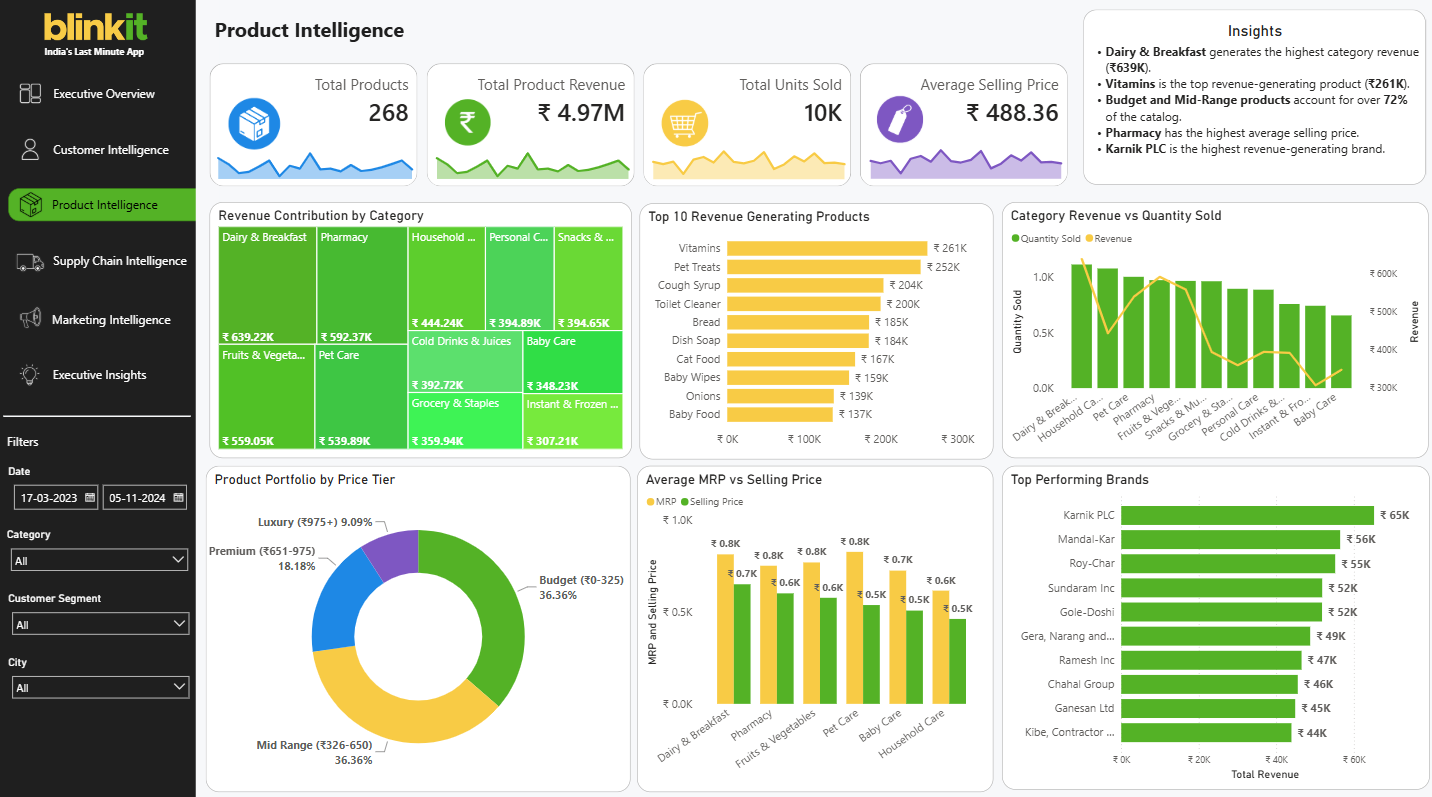

The page's visual inventory and layout, read from the dashboard file:
{"tool":"powerbi","page":{"name":"Duplicate of Dashboard","canvas":[1920,1080],"ordinal":3},"visuals":[{"type":"shape","box":[0,0,266.7,1080],"z":0},{"type":"textbox","box":[285,20.7,301.7,51.7],"z":0,"group":"g10"},{"type":"cardVisual","fields":{"Data":["Count(product_features.product_id)","Sum(product_features.revenue)","Sum(product_features.quantity)","Avg(product_features.avg_selling_price)"]},"box":[266.7,72.4,1181.7,198.3],"z":0,"group":"g1"},{"type":"cardVisual","fields":{"Data":["Count(product_features.product_id)","Sum(product_features.revenue)","Sum(product_features.quantity)","Avg(product_features.avg_selling_price)"]},"box":[266.7,73,1181.7,198.3],"z":0,"group":"g3"},{"type":"shape","box":[20.4,107.2,221.1,44.4],"z":0,"group":"g2"},{"type":"shape","box":[17.8,181.7,240,44.4],"z":0,"group":"g4"},{"type":"shape","box":[17.8,255.2,240,44.4],"z":0,"group":"g5"},{"type":"shape","box":[15.8,331.7,269.2,44.2],"z":0,"group":"g7"},{"type":"shape","box":[20.4,332.2,240,44.4],"z":0,"group":"g6"},{"type":"shape","box":[20.4,406.5,240,44.4],"z":0,"group":"g8"},{"type":"shape","box":[17.8,481.7,240,44.4],"z":0,"group":"g9"},{"type":"textbox","box":[285,21.7,343.3,51.7],"z":1000},{"type":"group","id":"g1","title":"card","box":[266.7,72.4,1181.7,198.3],"z":1000,"group":"g10"},{"type":"textbox","box":[70.7,111.8,156.6,35],"z":1000,"group":"g2"},{"type":"lineChart","fields":{"Category":["customer_clv.total_orders"],"Y":["CountNonNull(customer_clv.customer_id)"]},"box":[558,186.1,299,62.8],"z":1000,"group":"g1"},{"type":"textbox","box":[70.1,186.3,170,35.2],"z":1000,"group":"g4"},{"type":"lineChart","fields":{"Category":["customer_clv.total_orders"],"Y":["CountNonNull(customer_clv.customer_id)"]},"box":[558,186.7,299,62.8],"z":1000,"group":"g3"},{"type":"textbox","box":[69.5,259.3,170,35.2],"z":1000,"group":"g5"},{"type":"textbox","box":[70.3,336.1,203.9,36.1],"z":1000,"group":"g6"},{"type":"textbox","box":[69.6,338.1,228.9,35.6],"z":1000,"group":"g7"},{"type":"textbox","box":[69.3,412.8,170,35.2],"z":1000,"group":"g8"},{"type":"textbox","box":[65,486.9,141.6,34.8],"z":1000,"group":"g9"},{"type":"group","id":"g2","title":"EO_Inactive","box":[20.4,107.2,221.2,44.4],"z":2000},{"type":"image","box":[28.7,108.8,32.2,41],"z":2000,"group":"g2"},{"type":"lineChart","fields":{"Y":["Avg(customer_clv.total_revenue)"],"Category":["customer_clv.total_orders"]},"box":[847.3,186.4,298.6,63.2],"z":2000,"group":"g1"},{"type":"lineChart","fields":{"Y":["Avg(customer_clv.total_revenue)"],"Category":["customer_clv.total_orders"]},"box":[847.3,187,298.6,63.2],"z":2000,"group":"g3"},{"type":"image","box":[25.6,187.3,34.8,33.2],"z":2000,"group":"g4"},{"type":"image","box":[25.6,259.3,34.5,35.5],"z":2000,"group":"g5"},{"type":"treemap","title":"Revenue Contribution by Category","fields":{"Group":["product_summary.category"],"Values":["Sum(product_summary.revenue)"]},"box":[283.4,273.4,563.3,341.7],"z":2000,"group":"g10"},{"type":"image","box":[25.1,334.9,38.4,39],"z":2000,"group":"g6"},{"type":"image","box":[25,336,40,39.2],"z":2000,"group":"g7"},{"type":"image","box":[28,408.3,32.9,38.4],"z":2000,"group":"g8"},{"type":"image","box":[27.9,485,30.3,38.1],"z":2000,"group":"g9"},{"type":"group","id":"g3","title":"card","box":[266.7,73,1181.7,198.3],"z":3000},{"type":"lineChart","fields":{"Category":["customer_clv.total_orders"],"Y":["CountNonNull(customer_clv.customer_id)"]},"box":[266.8,186.1,302,62.8],"z":3000,"group":"g1"},{"type":"lineChart","fields":{"Category":["customer_clv.total_orders"],"Y":["CountNonNull(customer_clv.customer_id)"]},"box":[266.8,186.7,302,62.8],"z":3000,"group":"g3"},{"type":"barChart","title":"Top 10 Revenue Generating Products","fields":{"Category":["pareto_analysis.product_name"],"Y":["Sum(pareto_analysis.revenue)"]},"box":[856.7,275,471.7,341.7],"z":3000,"group":"g10"},{"type":"lineChart","fields":{"Category":["customer_clv.total_orders"],"Y":["Avg(customer_clv.total_revenue)"]},"box":[1135.9,184.7,297.5,64.2],"z":4000,"group":"g1"},{"type":"lineChart","fields":{"Category":["customer_clv.total_orders"],"Y":["Avg(customer_clv.total_revenue)"]},"box":[1135.9,185.3,297.5,64.2],"z":4000,"group":"g3"},{"type":"lineClusteredColumnComboChart","title":"Category Revenue vs Quantity Sold","fields":{"Category":["product_summary.category"],"Y":["Sum(product_summary.quantity)"],"Y2":["Sum(product_summary.revenue)"]},"box":[1340,273.4,569.2,341.7],"z":4000,"group":"g10"},{"type":"image","box":[595,131.6,65,71.4],"z":5000,"group":"g1"},{"type":"image","box":[595,132.2,65,71.4],"z":5000,"group":"g3"},{"type":"group","id":"g4","title":"CI_Inactive","box":[17.8,181.7,240,44.4],"z":5000},{"type":"clusteredColumnChart","title":"Average MRP vs Selling Price","fields":{"Category":["products_clean.category"],"Y":["Avg(products_clean.mrp)","Avg(products_clean.price)"]},"box":[853.9,625.6,475,435],"z":5000,"group":"g10"},{"type":"image","box":[884.6,133.9,64.5,70],"z":6000,"group":"g1"},{"type":"image","box":[884.6,134.5,64.5,70],"z":6000,"group":"g3"},{"type":"donutChart","title":"Product Portfolio by Price Tier","fields":{"Y":["CountNonNull(products_clean.product_id)"],"Category":["products_clean.Price Band"]},"box":[278.9,625.6,566.7,435],"z":6000,"group":"g10"},{"type":"image","box":[1172.3,128,65,73.3],"z":7000,"group":"g1"},{"type":"image","box":[1172.3,128.6,65,73.3],"z":7000,"group":"g3"},{"type":"group","id":"g5","title":"PI_Inactive","box":[17.8,255.2,240,44.4],"z":7000},{"type":"barChart","title":"Top Performing Brands","fields":{"Category":["product_features.brand"],"Y":["Sum(product_features.revenue)"]},"box":[1340.6,625.6,570,431.7],"z":7000,"group":"g10"},{"type":"textbox","title":"Insights","box":[1448.4,16.7,456.7,233.3],"z":8000,"group":"g10"},{"type":"image","box":[307.3,130.2,73.3,78.3],"z":8000,"group":"g1"},{"type":"image","box":[307.3,130.8,73.3,78.3],"z":8000,"group":"g3"},{"type":"group","id":"g6","title":"SCI_Inactive","box":[20.4,332.2,253.7,44.4],"z":9000},{"type":"group","id":"g7","title":"SCI_Active","box":[15.8,331.7,282.7,44.2],"z":10000},{"type":"textbox","title":"Insights","box":[1448.3,17.3,456.7,233.3],"z":11000},{"type":"group","id":"g8","title":"MI_Inactive","box":[20.4,406.5,240,44.4],"z":12000},{"type":"group","id":"g9","title":"EI_Inactive","box":[17.8,481.7,240,44.4],"z":14000},{"type":"shape","box":[265,0,20,1080],"z":16000},{"type":"image","box":[62.7,20.7,137.3,39.6],"z":17000},{"type":"textbox","box":[58.8,57.6,144.2,28.8],"z":18000},{"type":"slicer","title":"Date","fields":{"Values":["inventory_master.date"]},"box":[10,623.6,255,76.4],"z":19000},{"type":"slicer","title":"Category","fields":{"Values":["inventory_master.category"]},"box":[8.6,708.6,256.4,71.4],"z":20000},{"type":"shape","box":[8,551.3,250,14.7],"z":21000},{"type":"textbox","box":[8.3,576.7,141.7,38.3],"z":22000},{"type":"slicer","title":"Customer Segment","fields":{"Values":["customer_segments.Customer Segment Clean"]},"box":[9.3,792.9,256.4,71.4],"z":23000},{"type":"slicer","title":"City","fields":{"Values":["customer_clv.area"]},"box":[10,878.6,256.4,71.4],"z":24000},{"type":"group","id":"g10","title":"PI_Group","box":[266.7,16.7,1643.9,1043.9],"z":27000}]}

Visuals, with their boxes on the page's 1920x1080 design canvas (x1, y1, x2, y2). These are canvas units, not pixel positions in the 1432x797 screenshot, which may show the page scaled, cropped or inside an application window:
shape: box(0, 0, 267, 1080)
textbox: box(285, 21, 587, 72)
cardVisual - Count(product_features.product_id) x Sum(product_features.revenue): box(267, 72, 1448, 271)
cardVisual - Count(product_features.product_id) x Sum(product_features.revenue): box(267, 73, 1448, 271)
shape: box(20, 107, 242, 152)
shape: box(18, 182, 258, 226)
shape: box(18, 255, 258, 300)
shape: box(16, 332, 285, 376)
shape: box(20, 332, 260, 377)
shape: box(20, 406, 260, 451)
shape: box(18, 482, 258, 526)
textbox: box(285, 22, 628, 73)
"card" group: box(267, 72, 1448, 271)
textbox: box(71, 112, 227, 147)
lineChart - customer_clv.total_orders x CountNonNull(customer_clv.customer_id): box(558, 186, 857, 249)
textbox: box(70, 186, 240, 222)
lineChart - customer_clv.total_orders x CountNonNull(customer_clv.customer_id): box(558, 187, 857, 250)
textbox: box(70, 259, 240, 294)
textbox: box(70, 336, 274, 372)
textbox: box(70, 338, 298, 374)
textbox: box(69, 413, 239, 448)
textbox: box(65, 487, 207, 522)
"EO_Inactive" group: box(20, 107, 242, 152)
image: box(29, 109, 61, 150)
lineChart - Avg(customer_clv.total_revenue) x customer_clv.total_orders: box(847, 186, 1146, 250)
lineChart - Avg(customer_clv.total_revenue) x customer_clv.total_orders: box(847, 187, 1146, 250)
image: box(26, 187, 60, 220)
image: box(26, 259, 60, 295)
"Revenue Contribution by Category" treemap: box(283, 273, 847, 615)
image: box(25, 335, 64, 374)
image: box(25, 336, 65, 375)
image: box(28, 408, 61, 447)
image: box(28, 485, 58, 523)
"card" group: box(267, 73, 1448, 271)
lineChart - customer_clv.total_orders x CountNonNull(customer_clv.customer_id): box(267, 186, 569, 249)
lineChart - customer_clv.total_orders x CountNonNull(customer_clv.customer_id): box(267, 187, 569, 250)
"Top 10 Revenue Generating Products" barChart: box(857, 275, 1328, 617)
lineChart - customer_clv.total_orders x Avg(customer_clv.total_revenue): box(1136, 185, 1433, 249)
lineChart - customer_clv.total_orders x Avg(customer_clv.total_revenue): box(1136, 185, 1433, 250)
"Category Revenue vs Quantity Sold" lineClusteredColumnComboChart: box(1340, 273, 1909, 615)
image: box(595, 132, 660, 203)
image: box(595, 132, 660, 204)
"CI_Inactive" group: box(18, 182, 258, 226)
"Average MRP vs Selling Price" clusteredColumnChart: box(854, 626, 1329, 1061)
image: box(885, 134, 949, 204)
image: box(885, 134, 949, 204)
"Product Portfolio by Price Tier" donutChart: box(279, 626, 846, 1061)
image: box(1172, 128, 1237, 201)
image: box(1172, 129, 1237, 202)
"PI_Inactive" group: box(18, 255, 258, 300)
"Top Performing Brands" barChart: box(1341, 626, 1911, 1057)
"Insights" textbox: box(1448, 17, 1905, 250)
image: box(307, 130, 381, 208)
image: box(307, 131, 381, 209)
"SCI_Inactive" group: box(20, 332, 274, 377)
"SCI_Active" group: box(16, 332, 298, 376)
"Insights" textbox: box(1448, 17, 1905, 251)
"MI_Inactive" group: box(20, 406, 260, 451)
"EI_Inactive" group: box(18, 482, 258, 526)
shape: box(265, 0, 285, 1080)
image: box(63, 21, 200, 60)
textbox: box(59, 58, 203, 86)
"Date" slicer: box(10, 624, 265, 700)
"Category" slicer: box(9, 709, 265, 780)
shape: box(8, 551, 258, 566)
textbox: box(8, 577, 150, 615)
"Customer Segment" slicer: box(9, 793, 266, 864)
"City" slicer: box(10, 879, 266, 950)
"PI_Group" group: box(267, 17, 1911, 1061)
